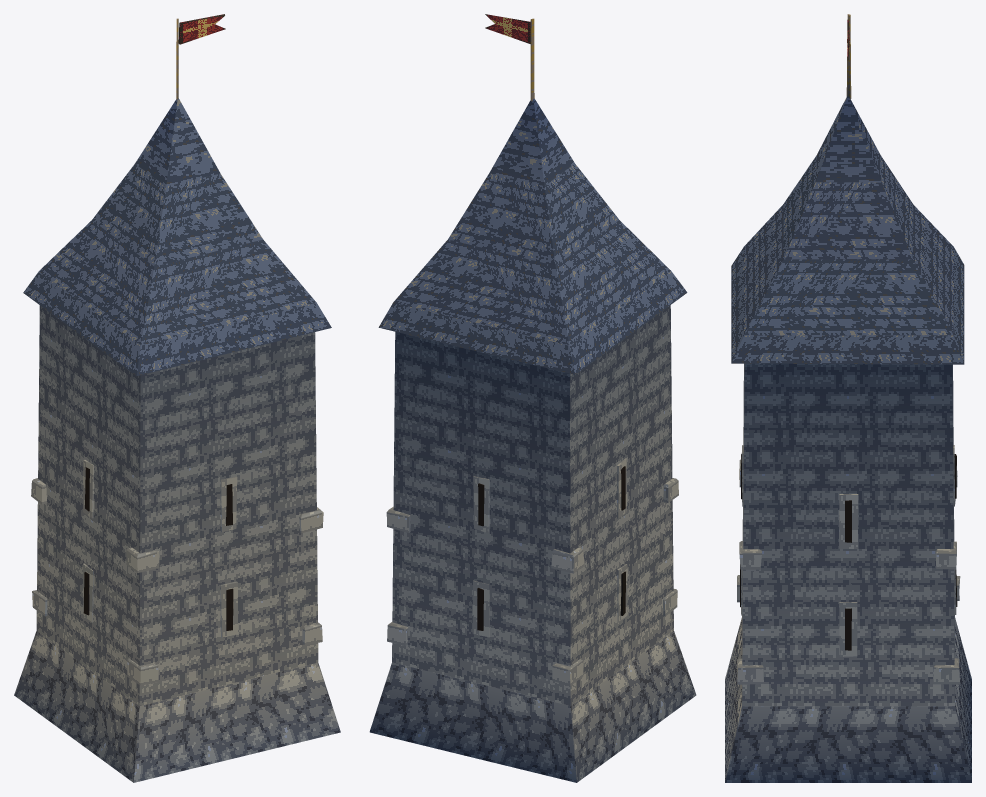
The model's file is cst.tower_square__roofed.glb.
The picture shows the model from 3 angles, left to right: view 1: azimuth 30°, elevation 25°; view 2: azimuth 150°, elevation 25°; view 3: azimuth 270°, elevation 25°; orthographic projection. The views are drawn at different scales.
Parts seen in each view (by area): view 1: kit_shaft, kit_top, kit_detail; view 2: kit_shaft, kit_top, kit_detail; view 3: kit_shaft, kit_top, kit_detail.
Boxes of the visible parts, x1=… form: kit_shaft: x1=14, y1=305, x2=340, y2=782; kit_top: x1=23, y1=98, x2=331, y2=375; kit_detail: x1=31, y1=14, x2=323, y2=685; kit_shaft: x1=369, y1=305, x2=696, y2=782; kit_top: x1=378, y1=99, x2=687, y2=374; kit_detail: x1=386, y1=14, x2=678, y2=685; kit_shaft: x1=725, y1=363, x2=971, y2=782; kit_top: x1=731, y1=96, x2=964, y2=364; kit_detail: x1=737, y1=14, x2=960, y2=684.
Size of the model in its own units: 5.8 by 18.58 by 5.8.
7 materials, 7 textured.
